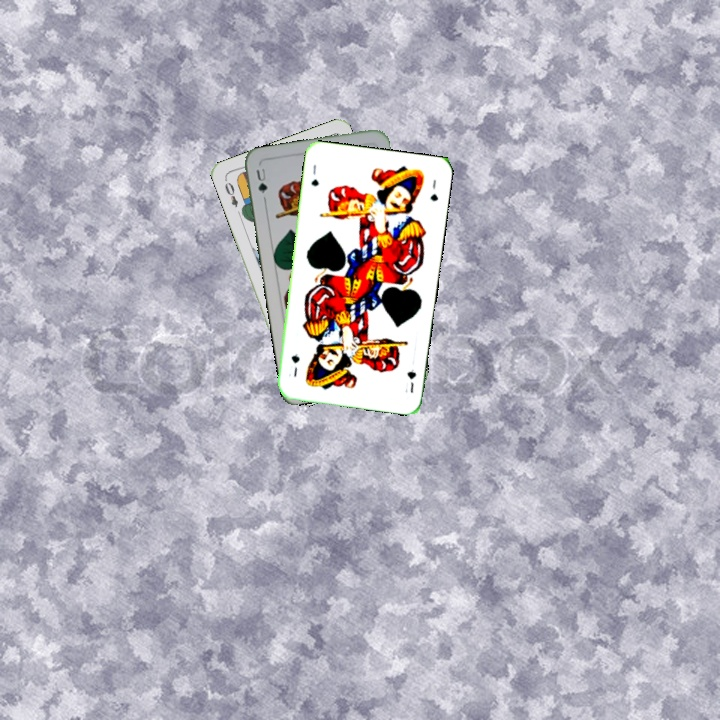EO: (221, 178, 241, 210)
GU: (252, 164, 270, 202), (401, 365, 419, 395), (307, 161, 321, 189)
